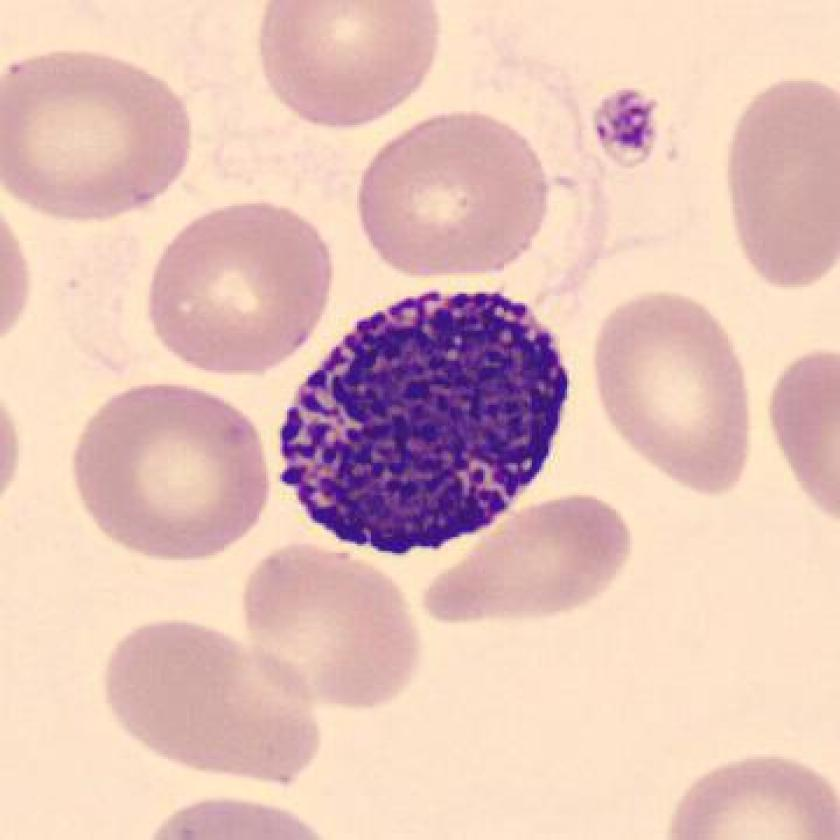basophil: (265, 279, 570, 559)
